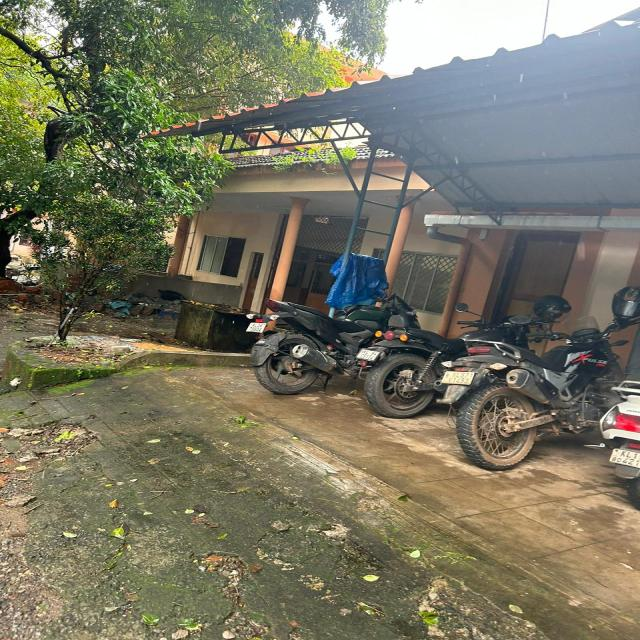motorcycle ahead at: (454, 337, 600, 467), (248, 290, 352, 407), (354, 324, 449, 413)
